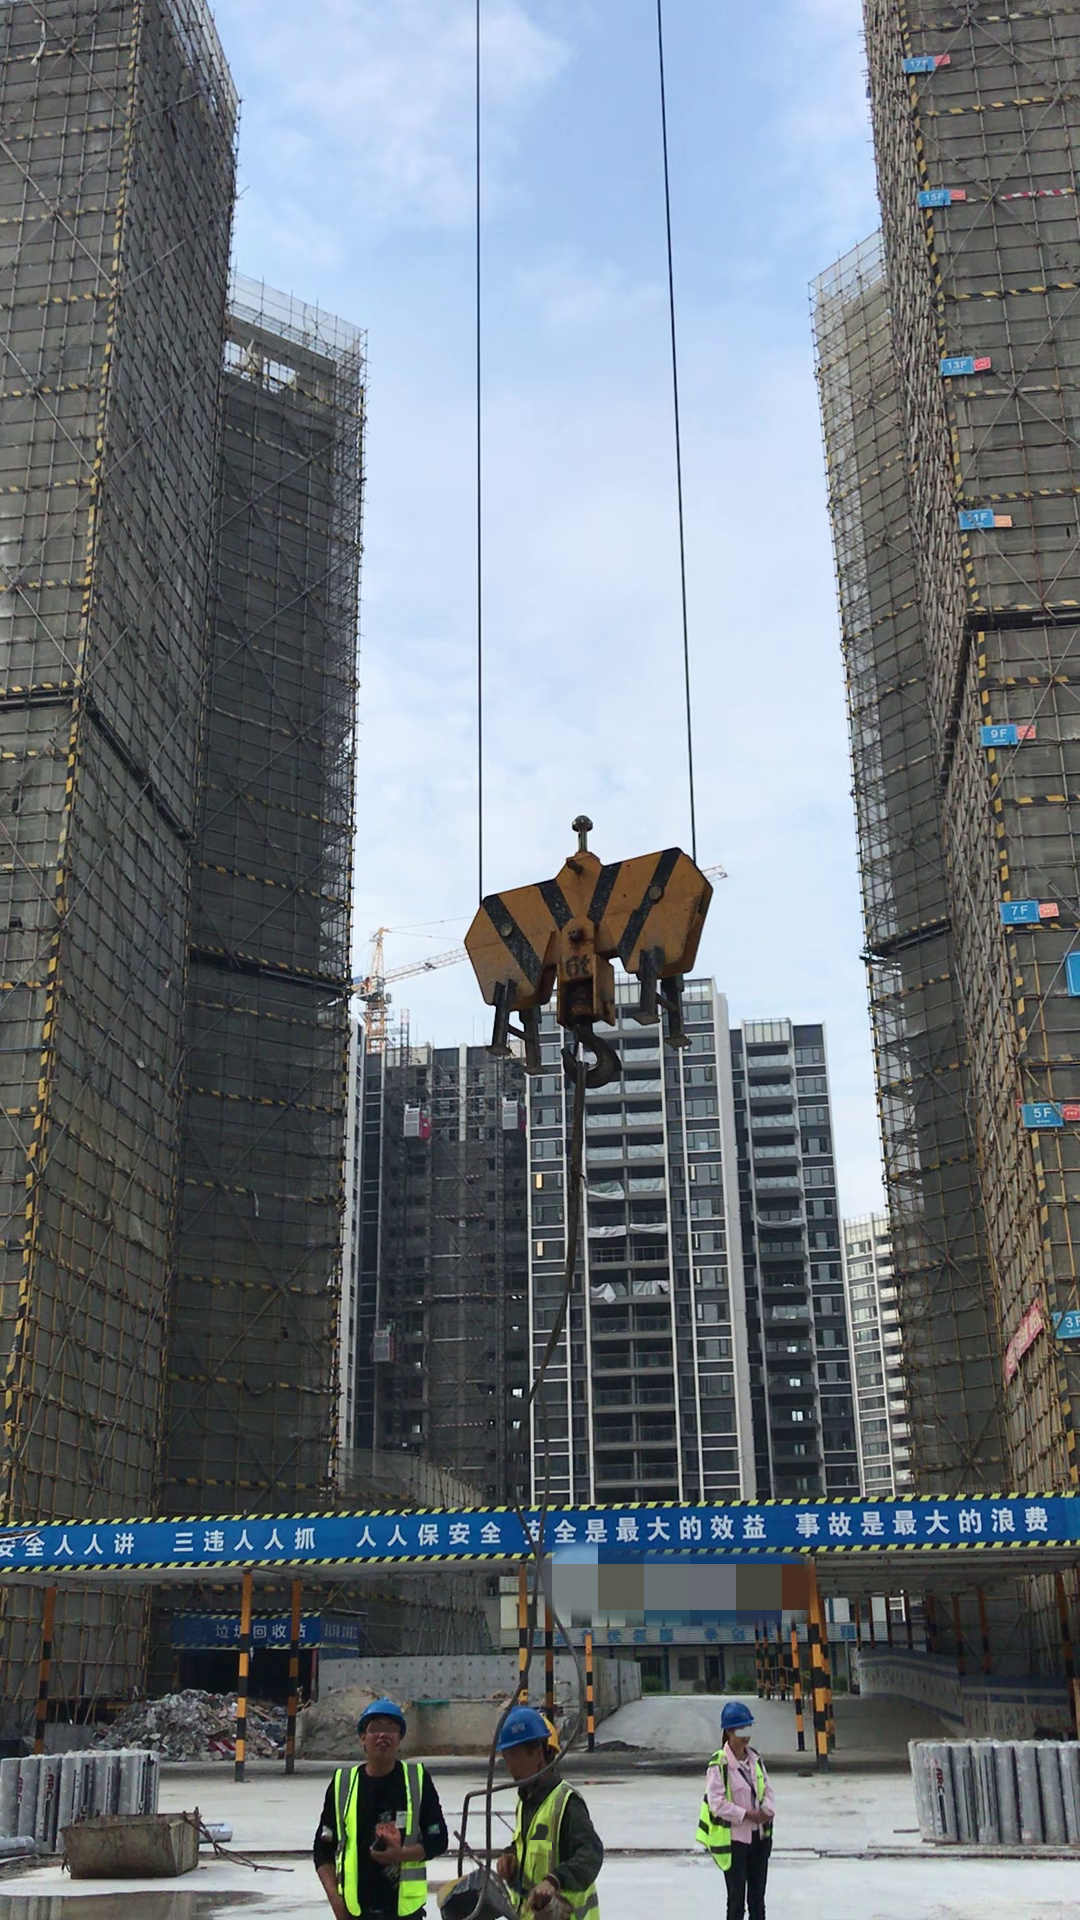helmet: (492, 1713, 551, 1752), (358, 1702, 409, 1731), (718, 1702, 757, 1724)
hook: (463, 851, 721, 1086)
hopper: (62, 1810, 203, 1880)
person: (316, 1700, 447, 1920), (490, 1711, 607, 1920), (707, 1697, 781, 1920)
slogan: (4, 1500, 1055, 1561)
vest: (334, 1762, 432, 1920), (510, 1785, 596, 1920), (703, 1749, 768, 1864)
